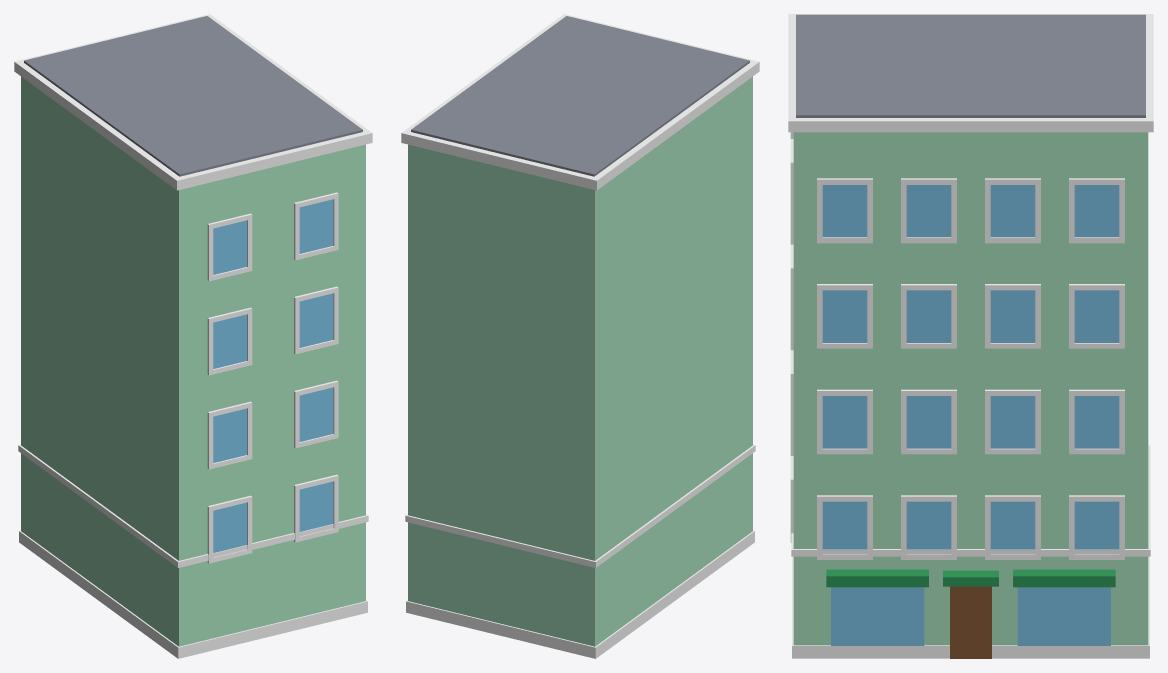
File: prop_building4.glb
3 renders of one model, left to right at view 1: azimuth 30°, elevation 25°; view 2: azimuth 150°, elevation 25°; view 3: azimuth 270°, elevation 25°, orthographic. The views are drawn at different scales.
Parts seen in each view (by area): view 1: main, roof, trim, glass, frames; view 2: main, roof, trim; view 3: main, glass, roof, frames, trim, awning, door.
Boxes of the visible parts, left/top/right/bottom form: main: left=21, top=76, right=365, bottom=646; roof: left=24, top=16, right=362, bottom=176; trim: left=14, top=14, right=372, bottom=658; glass: left=213, top=199, right=333, bottom=552; frames: left=207, top=192, right=338, bottom=563; main: left=408, top=76, right=752, bottom=646; roof: left=411, top=16, right=749, bottom=176; trim: left=401, top=14, right=759, bottom=658; main: left=793, top=132, right=1148, bottom=645; glass: left=822, top=185, right=1119, bottom=645; roof: left=796, top=14, right=1145, bottom=117; frames: left=790, top=132, right=1124, bottom=559; trim: left=788, top=14, right=1153, bottom=658; awning: left=826, top=569, right=1115, bottom=587; door: left=950, top=586, right=991, bottom=658.
Size of the model in its own units: 5.66 by 12.82 by 7.84.
